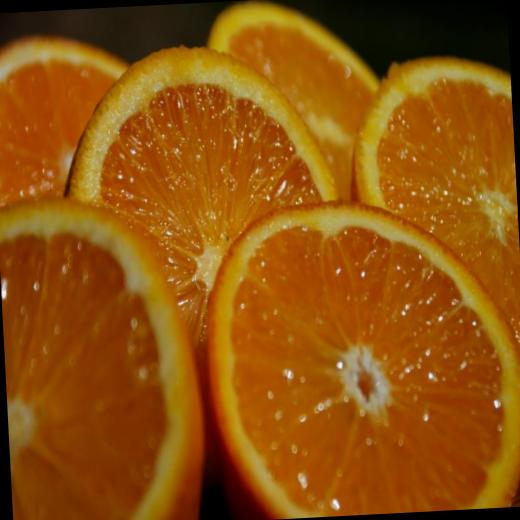Grape: (58, 38, 348, 394)
